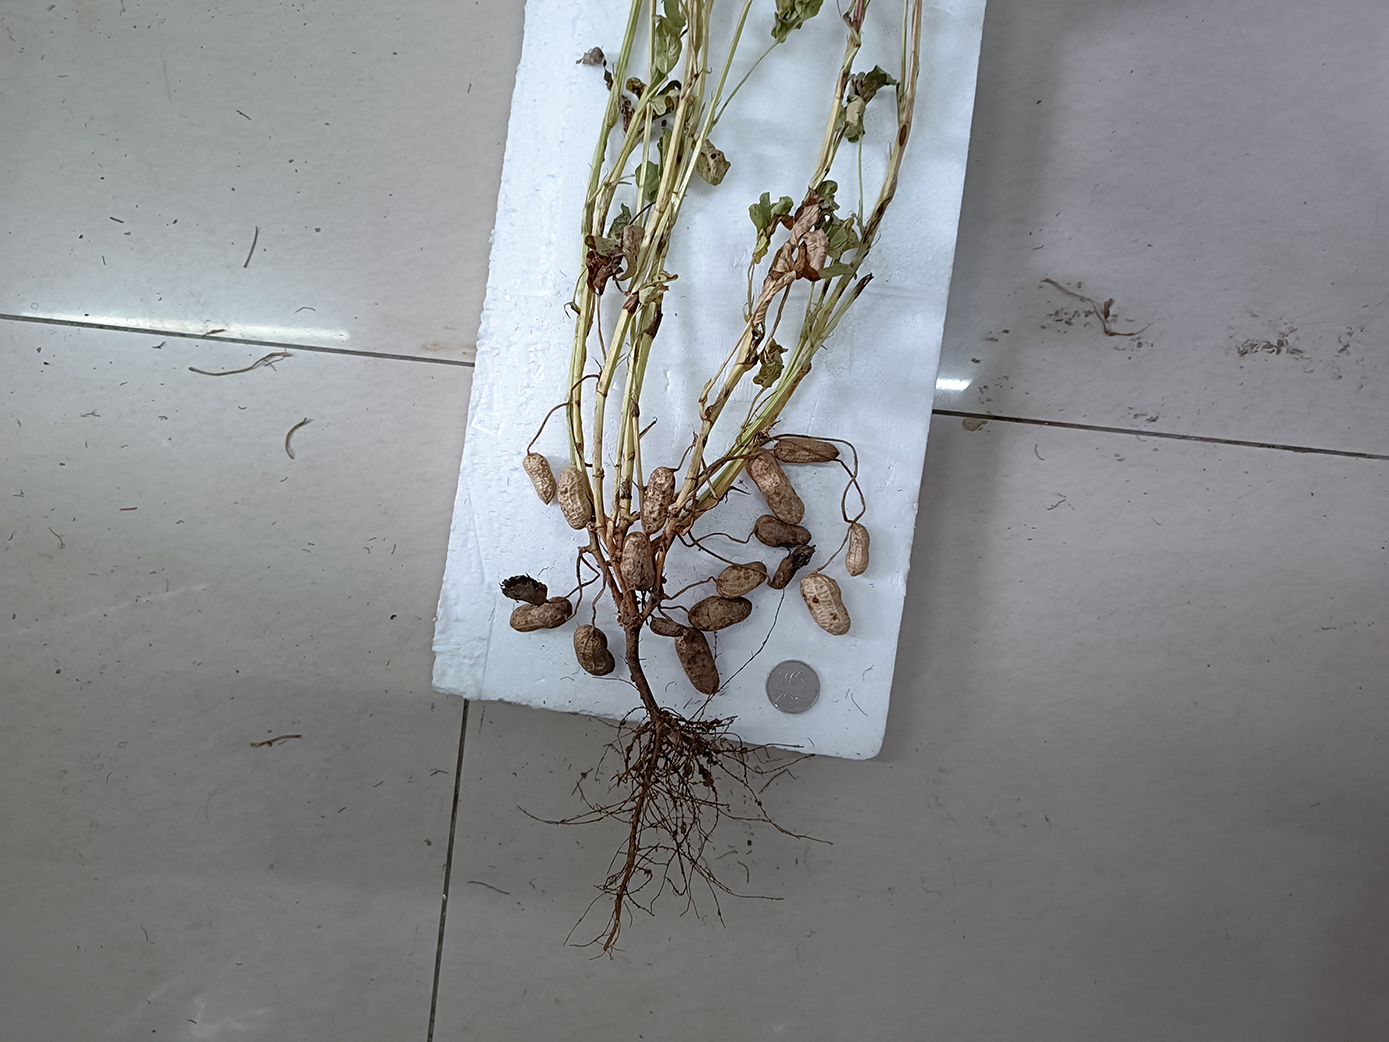h: (745, 447, 805, 525), (800, 574, 850, 636), (556, 467, 593, 530), (572, 623, 615, 676), (620, 531, 655, 591), (716, 561, 768, 597), (522, 452, 556, 505), (845, 523, 870, 577)
l: (675, 627, 720, 695), (641, 467, 676, 536), (687, 597, 753, 632), (509, 597, 572, 632), (769, 545, 815, 590), (754, 516, 812, 548), (773, 437, 840, 464), (498, 572, 548, 607), (650, 617, 683, 637)
